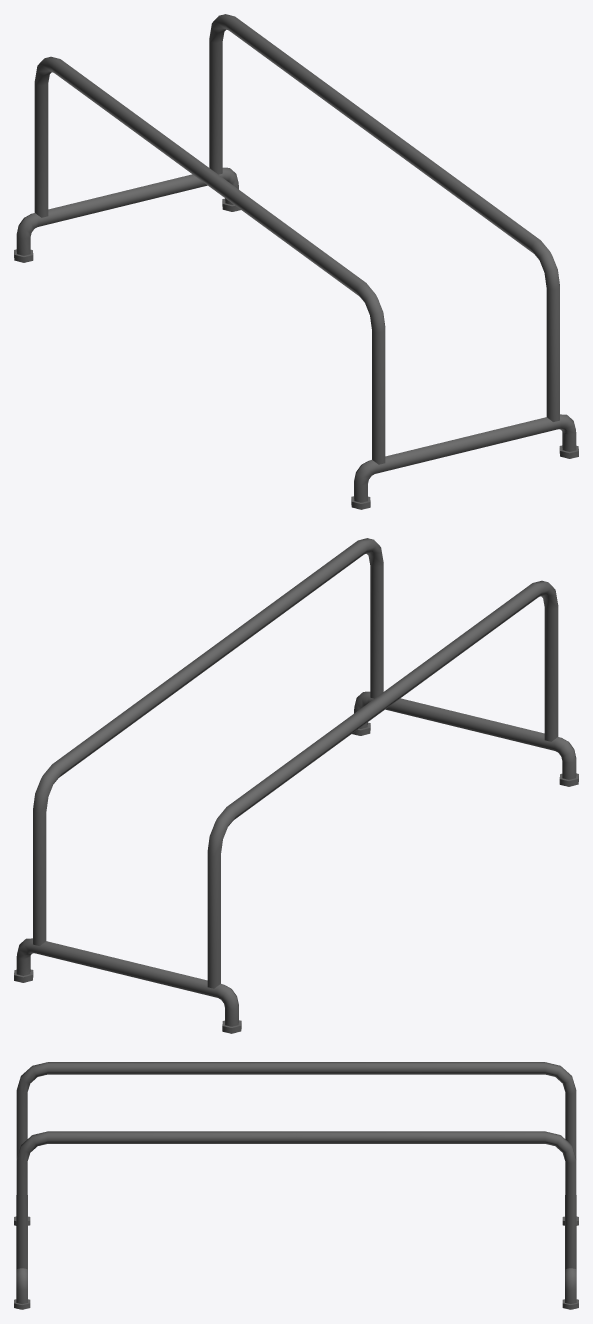
Rendered from hanger_straight_double.fbx.
3 views of the same model, one above another, from view 1: azimuth 30°, elevation 25°; view 2: azimuth 150°, elevation 25°; view 3: azimuth 270°, elevation 25° (orthographic). The views are drawn at different scales.
Visible parts, largest first — view 1: hanger_straight; view 2: hanger_straight; view 3: hanger_straight.
Boxes of the visible parts, box(x1,y1,x2,y2) form: hanger_straight: box(14, 14, 578, 509); hanger_straight: box(14, 538, 578, 1033); hanger_straight: box(14, 1062, 578, 1309).
Size of the model in its own units: 122 by 106 by 323.
